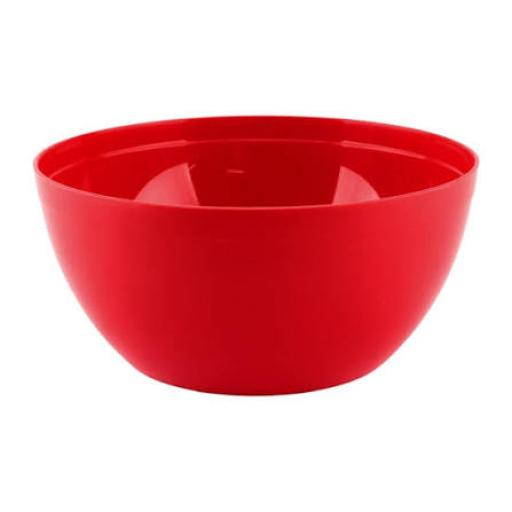Bowl: (36, 116, 478, 394)
